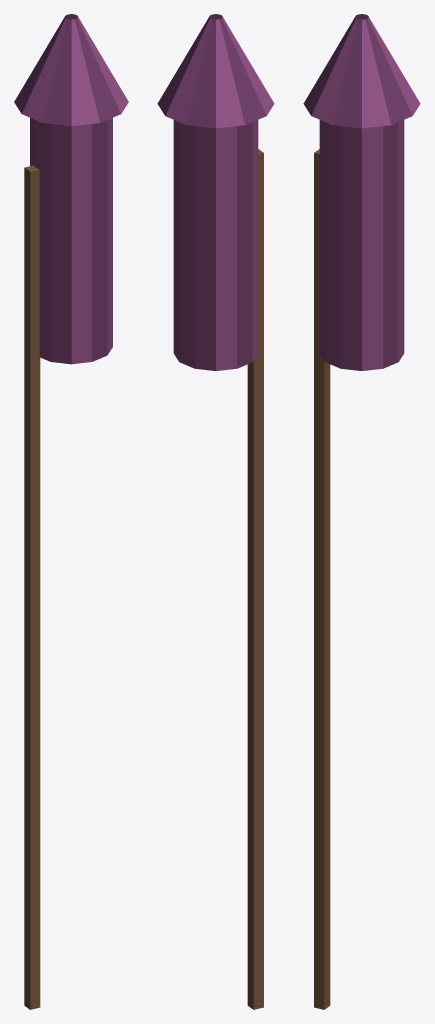
Rendered from Laumania_Rocket_Sample01.fbx.
3 views of the same model, side by side, from view 1: azimuth 30°, elevation 25°; view 2: azimuth 210°, elevation 25°; view 3: azimuth 330°, elevation 25° (orthographic).
Visible parts, largest first — view 1: Laumania_Rocket_Sample01; view 2: Laumania_Rocket_Sample01; view 3: Laumania_Rocket_Sample01.
Part boxes in pixels (x1,y1,x2,y2): Laumania_Rocket_Sample01: (14,14,128,1009); Laumania_Rocket_Sample01: (157,14,274,1009); Laumania_Rocket_Sample01: (303,14,420,1009).
Bounding box in the file's own units: 0.1017 × 0.958 × 0.1017.
